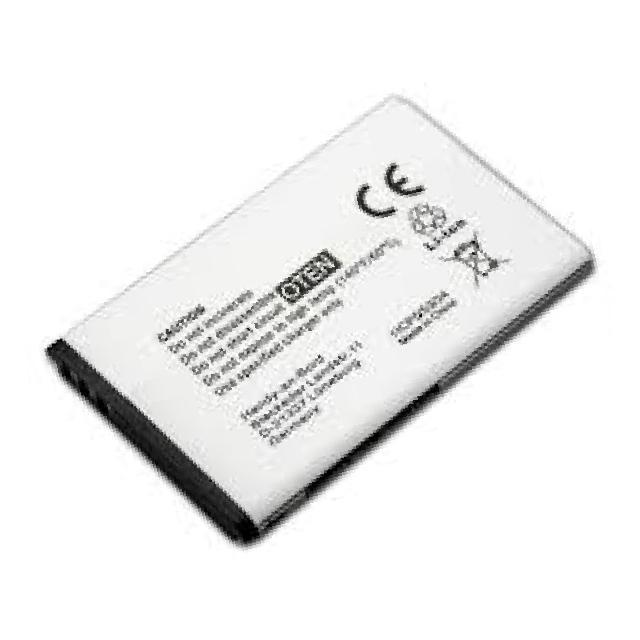Battery: (40, 90, 607, 547)
